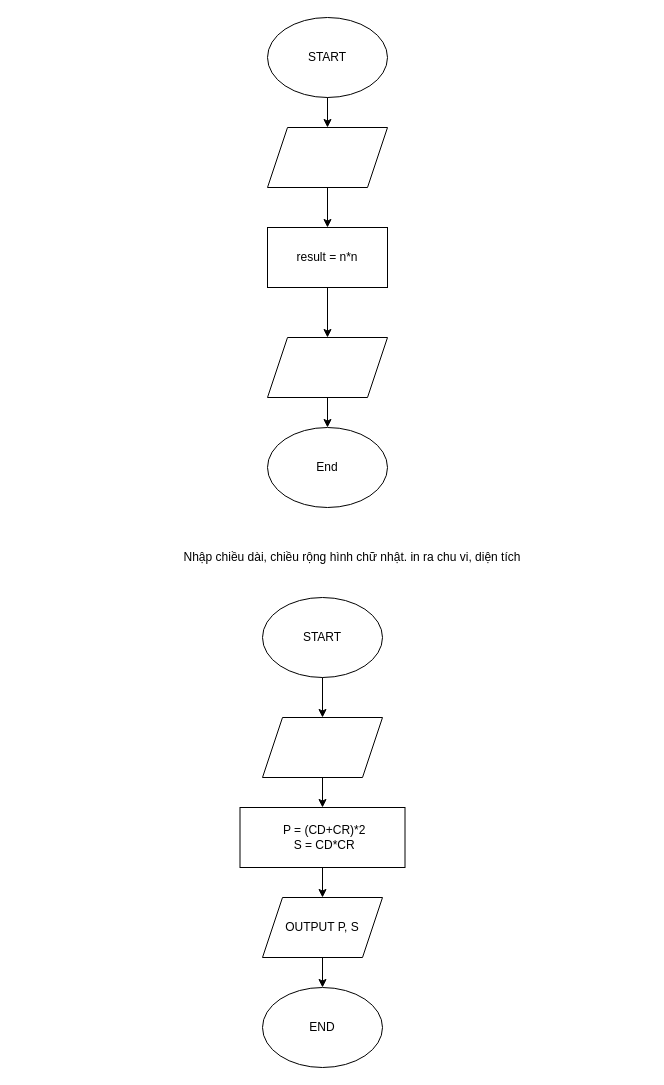
The diagram is 664 pixels wide and 1085 high, and some of its shapes have lost their labels. Each missing label, with the box of its shape:
INPUT CD, CR: (262, 716, 382, 778)
INPUT n: (266, 126, 388, 188)
Output result: (266, 336, 388, 398)
